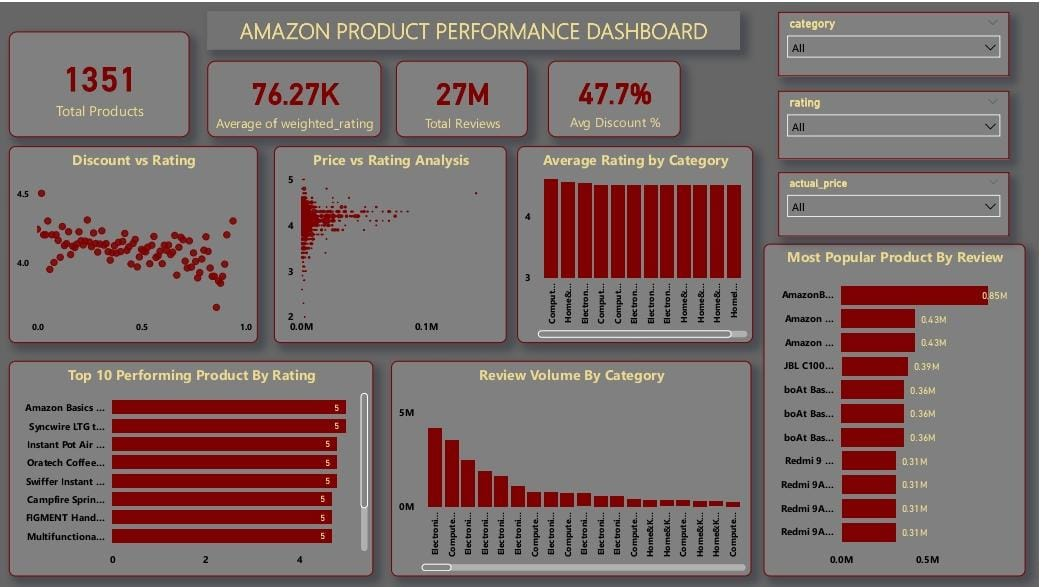

What the dashboard file says about the page in this screenshot:
{"tool":"powerbi","page":{"name":"Page 1","canvas":[1280,720],"ordinal":0},"visuals":[{"type":"textbox","box":[258,11.3,654.9,46.8],"z":0},{"type":"card","fields":{"Values":["Amazon Sales.Total Products"]},"box":[14.4,36,221.8,129.6],"z":1},{"type":"card","fields":{"Values":["Amazon Sales.Total Reviews"]},"box":[489.6,72,162.7,93.6],"z":2},{"type":"card","fields":{"Values":["Avg(Amazon Sales.weighted_rating)"]},"box":[257.8,72,214.6,93.6],"z":3},{"type":"card","fields":{"Values":["Amazon Sales.Avg Discount %"]},"box":[676.8,72,162.7,93.6],"z":4},{"type":"clusteredBarChart","title":"Top 10 Performing Product By Rating","fields":{"Y":["Amazon Sales.Weighted Avg Rating"],"Category":["Amazon Sales.product_name"]},"box":[14.4,440.6,447.8,265],"z":5},{"type":"scatterChart","title":"Price vs Rating Analysis","fields":{"X":["Amazon Sales.actual_price"],"Y":["Amazon Sales.rating"],"Size":["Sum(Amazon Sales.rating_count)"]},"box":[339.8,177.1,286.6,241.9],"z":6},{"type":"clusteredColumnChart","title":"Average Rating by Category","fields":{"Category":["Amazon Sales.category"],"Y":["Amazon Sales.Weighted Avg Rating"]},"box":[639.4,177.1,289.4,241.9],"z":7},{"type":"columnChart","title":"Review Volume By Category","fields":{"Category":["Amazon Sales.category"],"Y":["Amazon Sales.Total Reviews"]},"box":[483.8,440.6,443.5,265],"z":8},{"type":"barChart","title":"Most Popular Product By Review ","fields":{"Category":["Amazon Sales.product_name"],"Y":["Amazon Sales.Total Reviews"]},"box":[941.8,296.6,322.6,409],"z":9},{"type":"scatterChart","title":"Discount vs Rating","fields":{"X":["Amazon Sales.discount_percentage"],"Y":["Avg(Amazon Sales.rating)"]},"box":[14.4,177.1,305.3,241.9],"z":10},{"type":"slicer","fields":{"Values":["Amazon Sales.category"]},"box":[960.5,11.5,283.7,79.2],"z":12},{"type":"slicer","fields":{"Values":["Amazon Sales.rating"]},"box":[960.5,109.4,283.7,83.5],"z":13},{"type":"slicer","fields":{"Values":["Amazon Sales.actual_price"]},"box":[960.5,208.8,283.7,79.2],"z":14}]}

Visuals, with their boxes in screenshot pixels (x1, y1, x2, y2), scaled from the page's 1280x720 canvas onto the 1043x587 screenshot:
textbox: Rect(210, 9, 744, 47)
card - Amazon Sales.Total Products: Rect(12, 29, 192, 135)
card - Amazon Sales.Total Reviews: Rect(399, 59, 532, 135)
card - Avg(Amazon Sales.weighted_rating): Rect(210, 59, 385, 135)
card - Amazon Sales.Avg Discount %: Rect(551, 59, 684, 135)
"Top 10 Performing Product By Rating" clusteredBarChart: Rect(12, 359, 377, 575)
"Price vs Rating Analysis" scatterChart: Rect(277, 144, 510, 342)
"Average Rating by Category" clusteredColumnChart: Rect(521, 144, 757, 342)
"Review Volume By Category" columnChart: Rect(394, 359, 756, 575)
"Most Popular Product By Review " barChart: Rect(767, 242, 1030, 575)
"Discount vs Rating" scatterChart: Rect(12, 144, 261, 342)
slicer - Amazon Sales.category: Rect(783, 9, 1014, 74)
slicer - Amazon Sales.rating: Rect(783, 89, 1014, 157)
slicer - Amazon Sales.actual_price: Rect(783, 170, 1014, 235)
